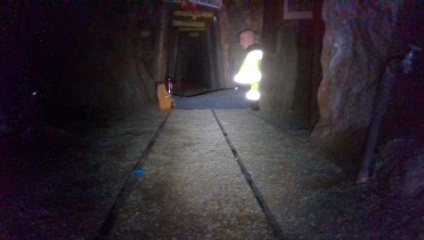fire_extinguisher: (166, 74, 174, 96)
manikin: (154, 28, 264, 116)
